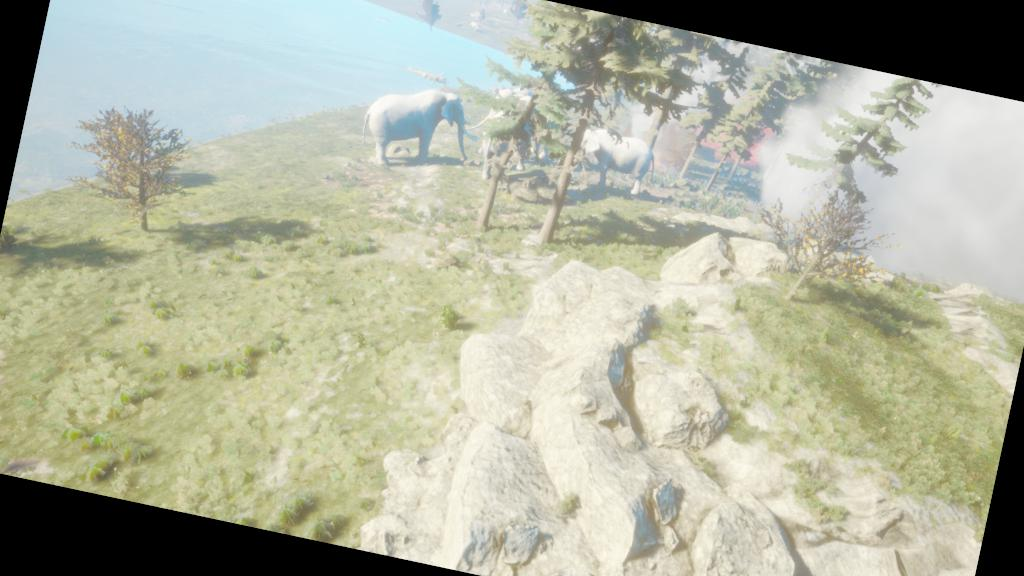Fire: (690, 106, 779, 173)
crocodile: (396, 58, 454, 92)
elephant: (345, 67, 494, 193), (549, 118, 666, 209)
smoke: (756, 61, 1023, 302)
